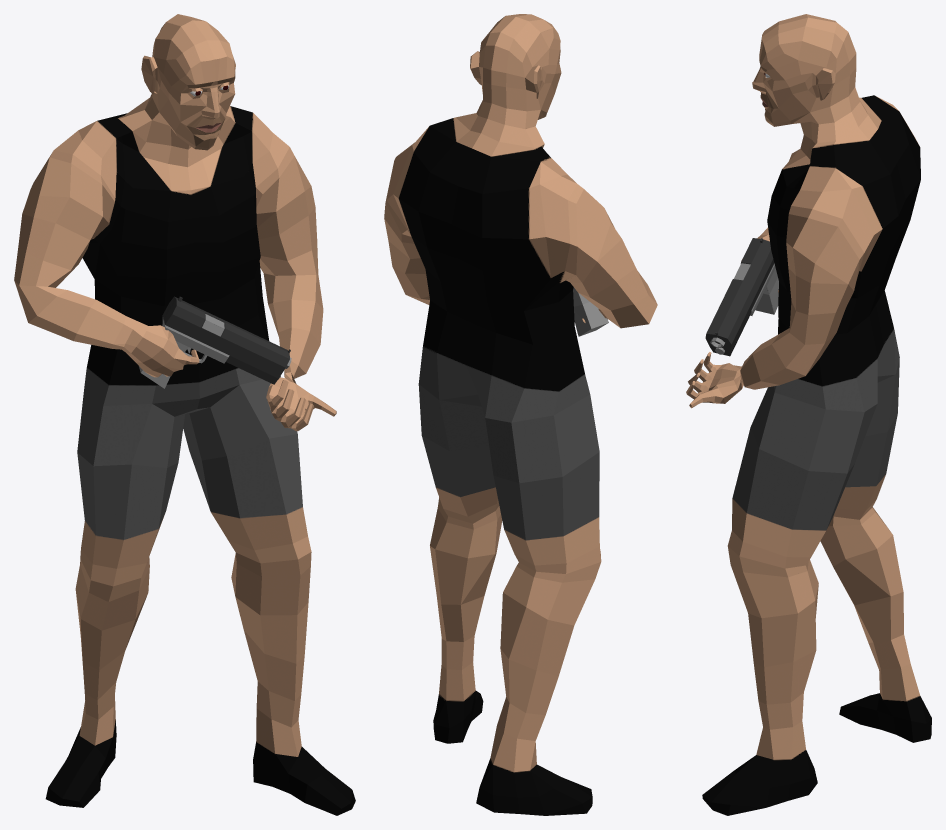
Rendered from PlayerIdle(211).obj.
3 renders of one model, left to right at view 1: azimuth 30°, elevation 25°; view 2: azimuth 150°, elevation 25°; view 3: azimuth 270°, elevation 25°, orthographic. The views are drawn at different scales.
Parts seen in each view (by area): view 1: Plane002, Box003; view 2: Plane002, Box003; view 3: Plane002, Box003.
Part boxes in pixels (x1,y1,x2,y2): Plane002: [14, 14, 355, 815]; Box003: [139, 296, 291, 388]; Plane002: [384, 14, 657, 815]; Box003: [573, 287, 608, 336]; Plane002: [686, 14, 931, 815]; Box003: [705, 238, 778, 356].
Bounding box in the file's own units: 678 × 1798 × 540.
